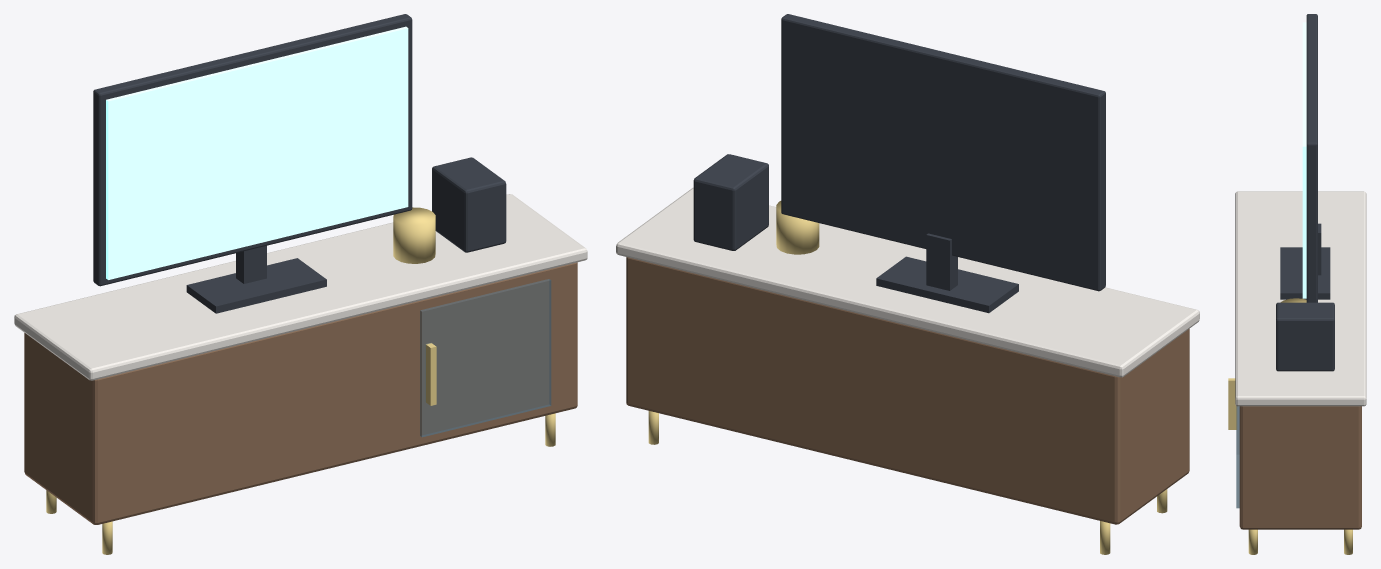
File: hotel_tv_minibar.glb
3 renders of one model, left to right at view 1: azimuth 30°, elevation 25°; view 2: azimuth 150°, elevation 25°; view 3: azimuth 270°, elevation 25°, orthographic. The views are drawn at different scales.
Visible parts, largest first — view 1: CredBody; view 2: CredBody; view 3: CredBody.
Boxes of the visible parts, x1,y1,x2,y2 form: CredBody: (14, 14, 587, 554); CredBody: (616, 14, 1199, 554); CredBody: (1228, 14, 1366, 554).
Bounding box in the file's own units: 2.16 × 1.78 × 0.61.
